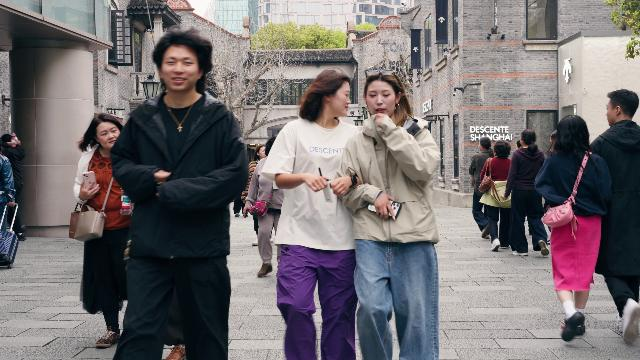person: (108, 24, 252, 360), (331, 69, 443, 360), (262, 66, 362, 360), (534, 115, 612, 342), (72, 112, 134, 349), (590, 89, 640, 346), (501, 129, 548, 257), (479, 140, 513, 251), (469, 137, 494, 239), (0, 145, 16, 233)
